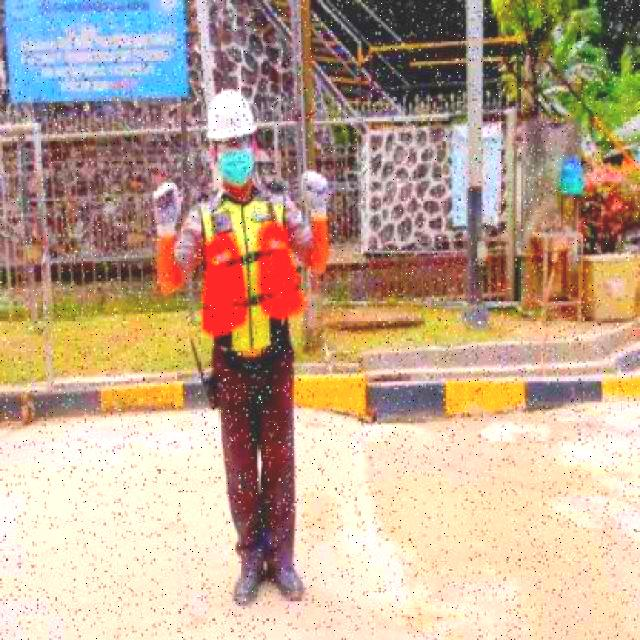Boots: (268, 560, 308, 605), (232, 558, 266, 610)
Gloves: (150, 182, 182, 241), (300, 170, 328, 222)
Helmet: (204, 88, 258, 141)
Mask: (201, 218, 304, 337)
